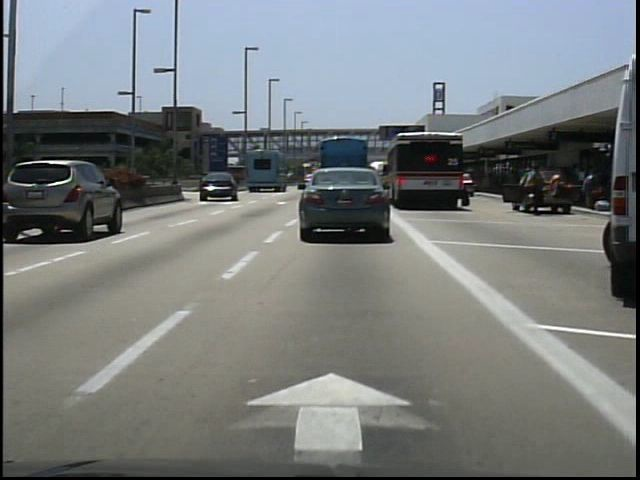person: (524, 163, 548, 218)
